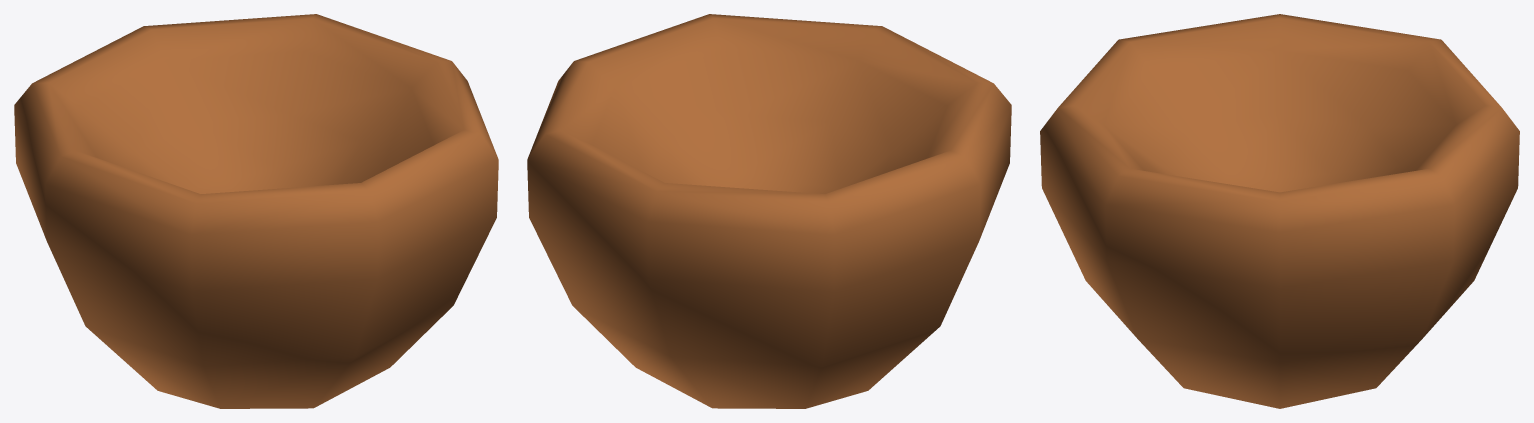
File: Mesh_PotOpen.glb
3 renders of one model, left to right at view 1: azimuth 30°, elevation 25°; view 2: azimuth 150°, elevation 25°; view 3: azimuth 270°, elevation 25°, orthographic.
Visible parts, largest first — view 1: Cube.014; view 2: Cube.014; view 3: Cube.014.
Boxes of the visible parts, x1,y1,x2,y2 form: Cube.014: (14, 14, 498, 408); Cube.014: (527, 14, 1011, 408); Cube.014: (1040, 14, 1519, 408).
Size of the model in its own units: 6.19 by 3.66 by 6.19.
